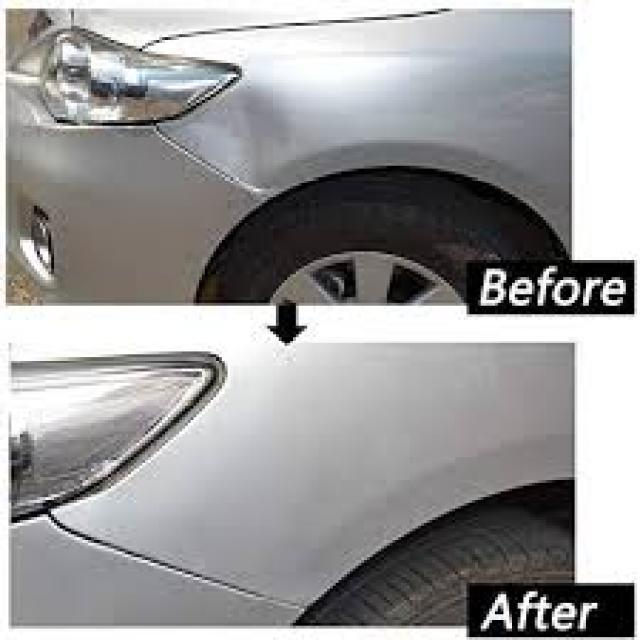dent-or-scratch: (170, 78, 298, 196)
